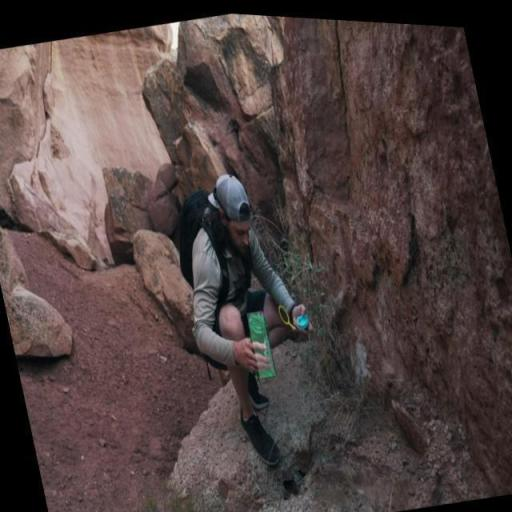bottle: (249, 308, 276, 374)
